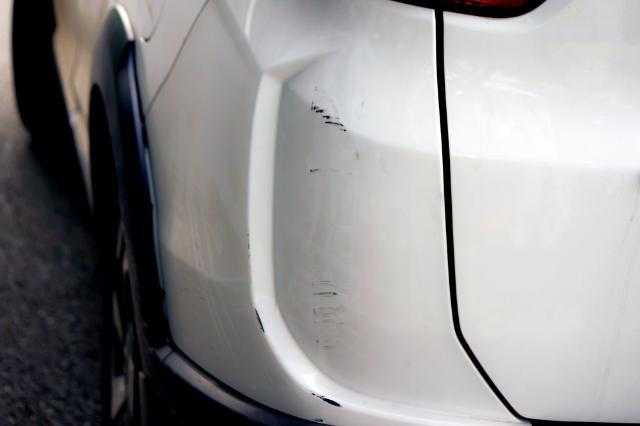scratch: (302, 88, 360, 358), (310, 390, 349, 412), (252, 305, 268, 338)
